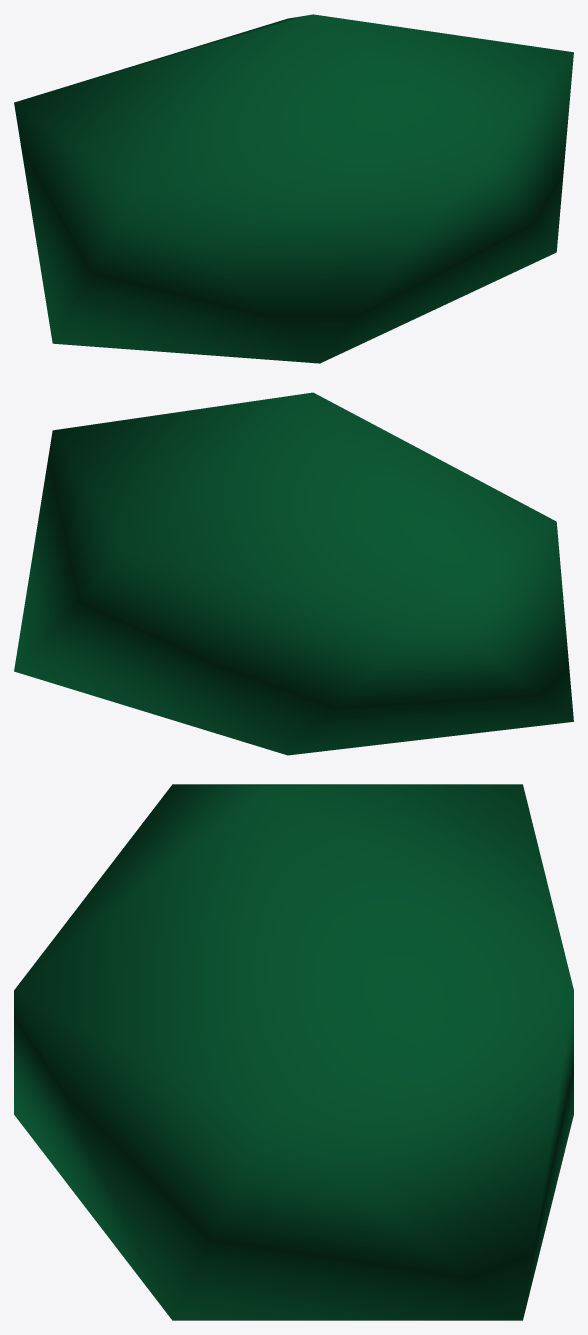
Rendered from Bush7.fbx.
The picture shows the model from 3 angles, top to bottom: view 1: azimuth 30°, elevation 25°; view 2: azimuth 150°, elevation 25°; view 3: azimuth 270°, elevation 25°; orthographic projection. The views are drawn at different scales.
Visible parts, largest first — view 1: Bush7; view 2: Bush7; view 3: Bush7.
Part boxes in pixels (x1=…): Bush7: x1=14, y1=14, x2=573, y2=363; Bush7: x1=14, y1=392, x2=573, y2=755; Bush7: x1=14, y1=784, x2=573, y2=1320.
Size of the model in its own units: 49.24 by 25.25 by 31.62.
